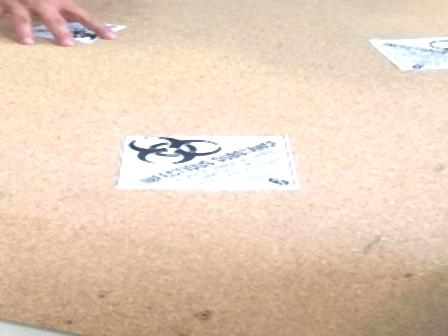infectious-substance: (118, 135, 292, 190), (370, 37, 448, 72), (23, 19, 124, 43)
